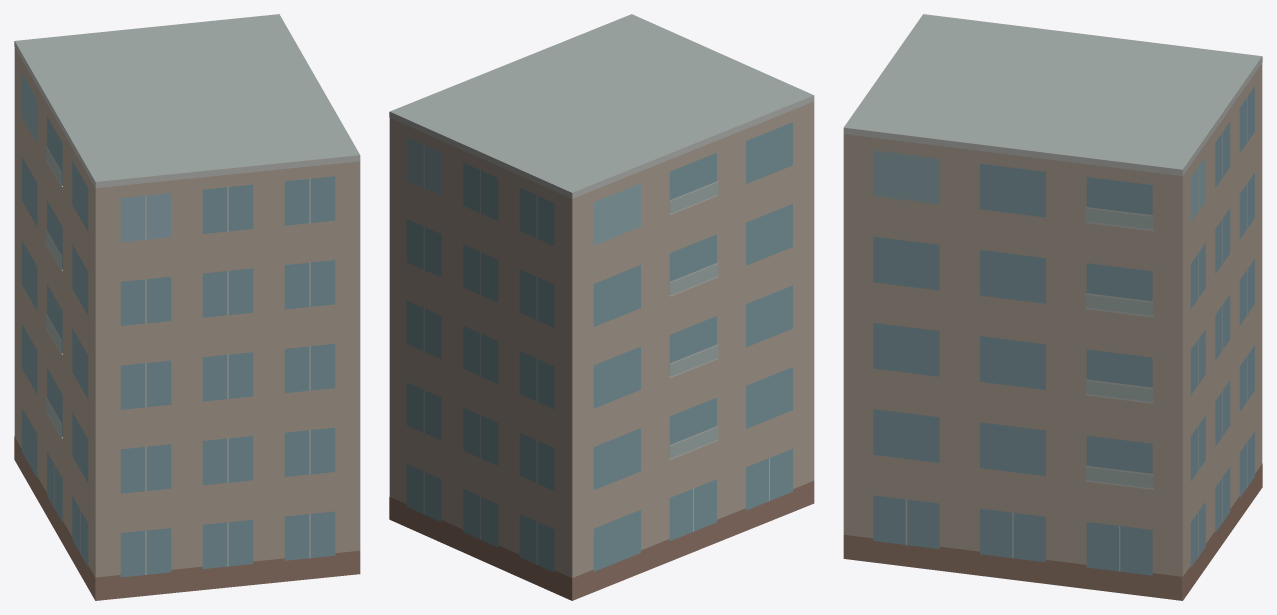
Rendered from survey-upis-32972496.glb.
3 views of the same model, side by side, from view 1: azimuth 30°, elevation 25°; view 2: azimuth 150°, elevation 25°; view 3: azimuth 270°, elevation 25° (orthographic). The views are drawn at different scales.
Parts seen in each view (by area): view 1: survey-upis-32972496.tmp; view 2: survey-upis-32972496.tmp; view 3: survey-upis-32972496.tmp.
Boxes of the visible parts, left/top/right/bottom form: survey-upis-32972496.tmp: left=14, top=14, right=360, bottom=600; survey-upis-32972496.tmp: left=389, top=14, right=814, bottom=600; survey-upis-32972496.tmp: left=843, top=14, right=1262, bottom=600.
Size of the model in its own units: 12.79 by 16.5 by 14.54.
